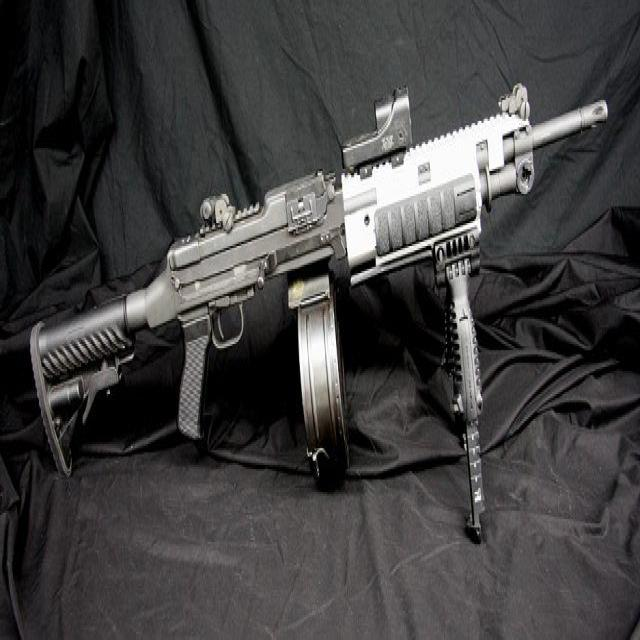firearm: (27, 73, 610, 552)
